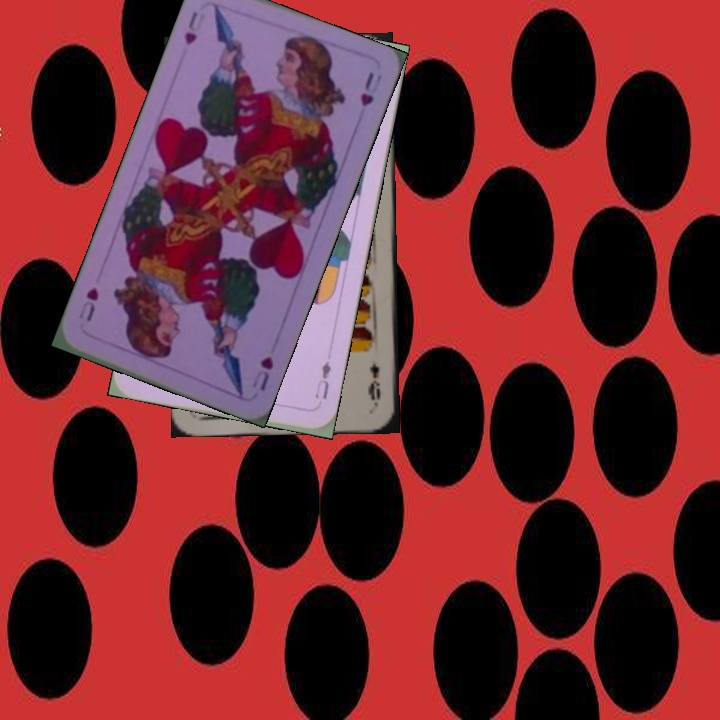E9: (363, 360, 383, 407)
EU: (311, 357, 333, 402)
HU: (247, 352, 276, 394), (180, 7, 208, 48)
